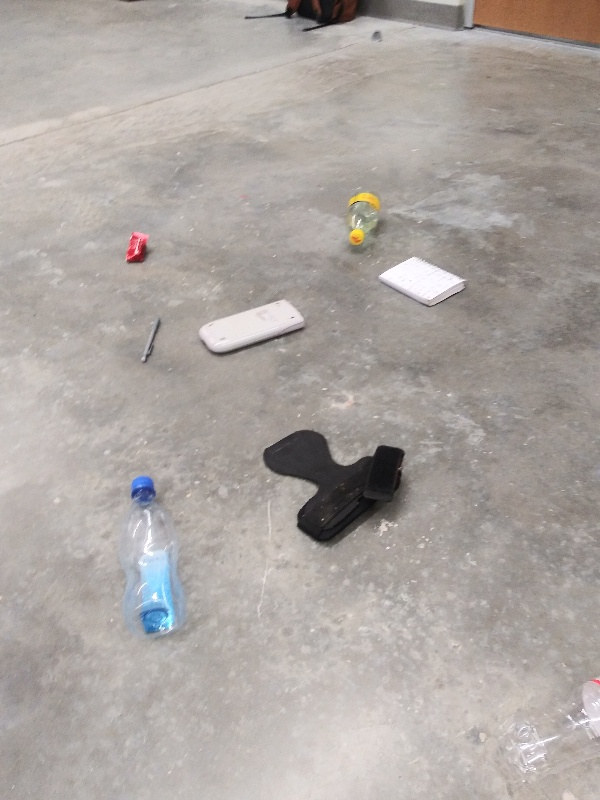bottle: (489, 666, 600, 800), (113, 472, 190, 640), (343, 189, 387, 250)
